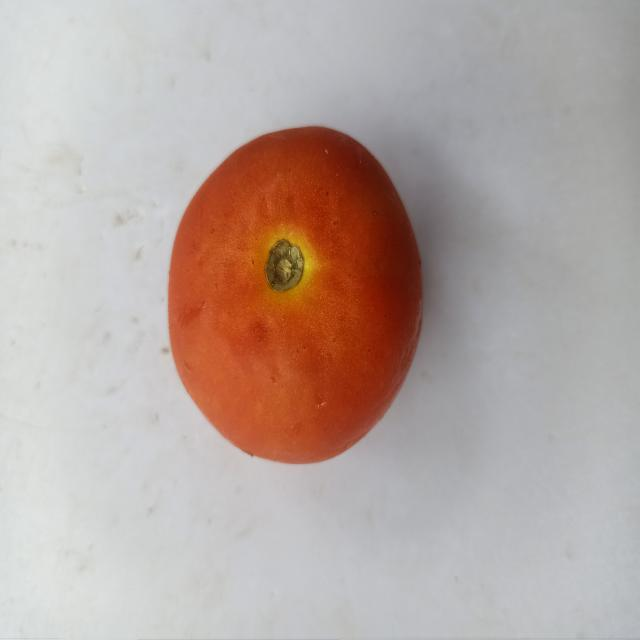Tomato: (140, 96, 453, 508)
